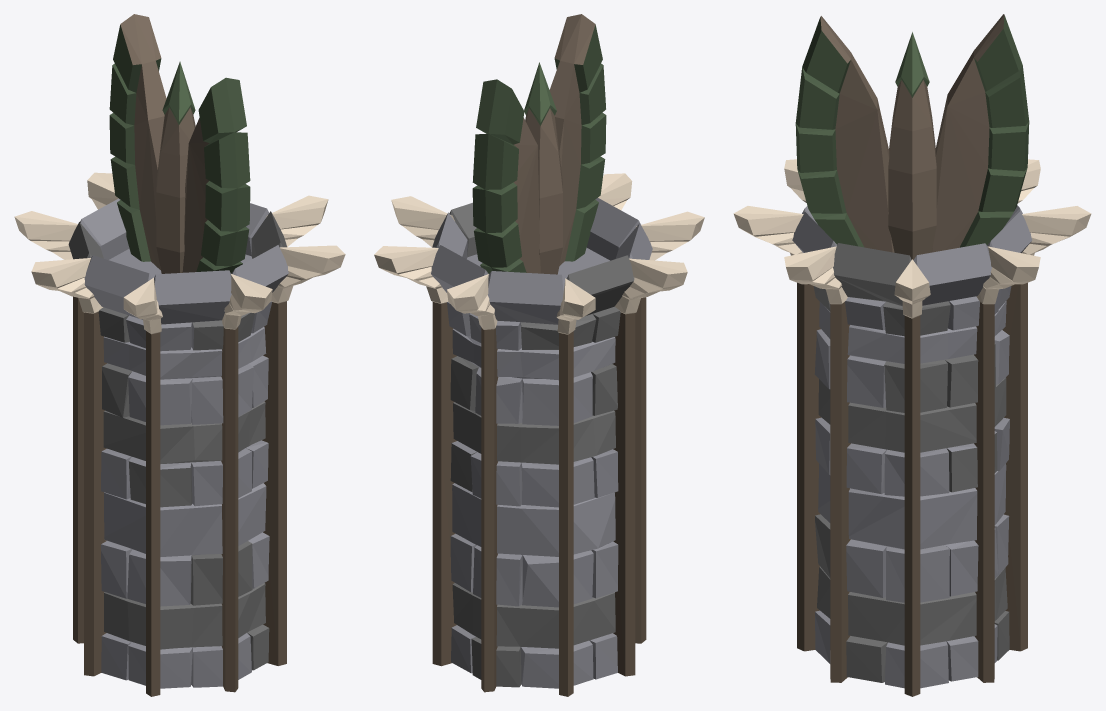
The model's file is props_full.fbx.
3 renders of one model, left to right at view 1: azimuth 30°, elevation 25°; view 2: azimuth 150°, elevation 25°; view 3: azimuth 270°, elevation 25°, orthographic. The views are drawn at different scales.
Visible parts, largest first — view 1: PROPS_UP_01, PROPS_1_BASE_01; view 2: PROPS_UP_01, PROPS_1_BASE_01; view 3: PROPS_UP_01, PROPS_1_BASE_01.
Part boxes in pixels (bbox=[...]): PROPS_UP_01: bbox=[14, 14, 345, 474]; PROPS_1_BASE_01: bbox=[73, 417, 286, 696]; PROPS_UP_01: bbox=[374, 14, 704, 474]; PROPS_1_BASE_01: bbox=[432, 418, 646, 696]; PROPS_UP_01: bbox=[733, 14, 1091, 464]; PROPS_1_BASE_01: bbox=[797, 416, 1027, 696].
Bounding box in the file's own units: 471 × 918 × 471.
